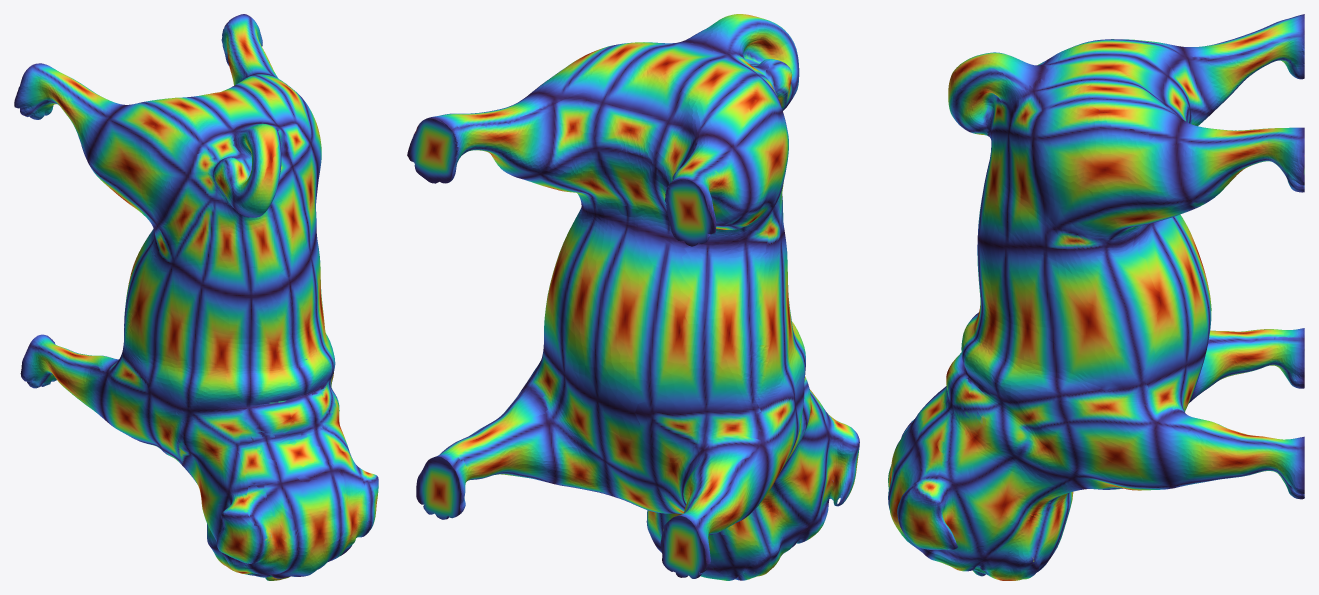
The model's file is gen3.glb.
The picture shows the model from 3 angles, left to right: view 1: azimuth 30°, elevation 25°; view 2: azimuth 150°, elevation 25°; view 3: azimuth 270°, elevation 25°; orthographic projection. The views are drawn at different scales.
Visible parts, largest first — view 1: Node; view 2: Node; view 3: Node.
Part boxes in pixels (x1,y1,x2,y2): Node: [14, 14, 378, 580]; Node: [407, 14, 859, 580]; Node: [888, 14, 1304, 580].
Size of the model in its own units: 34.02 by 58.6 by 43.33.
1 material, 1 textured.
